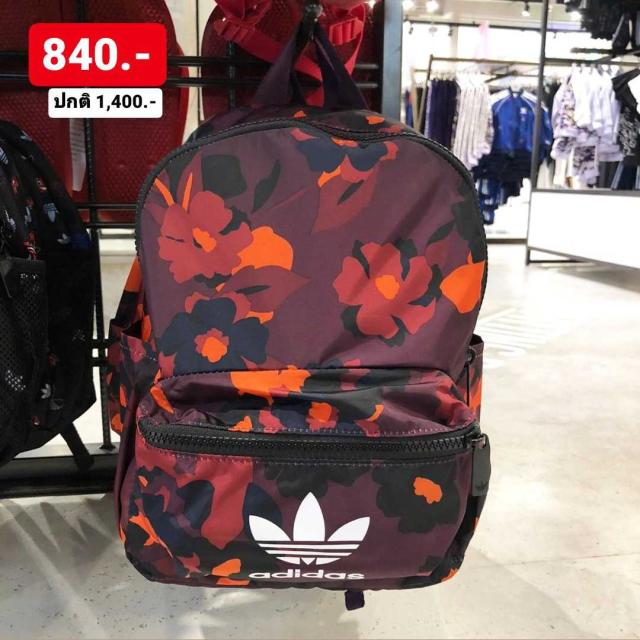handbag: (96, 14, 497, 612)
